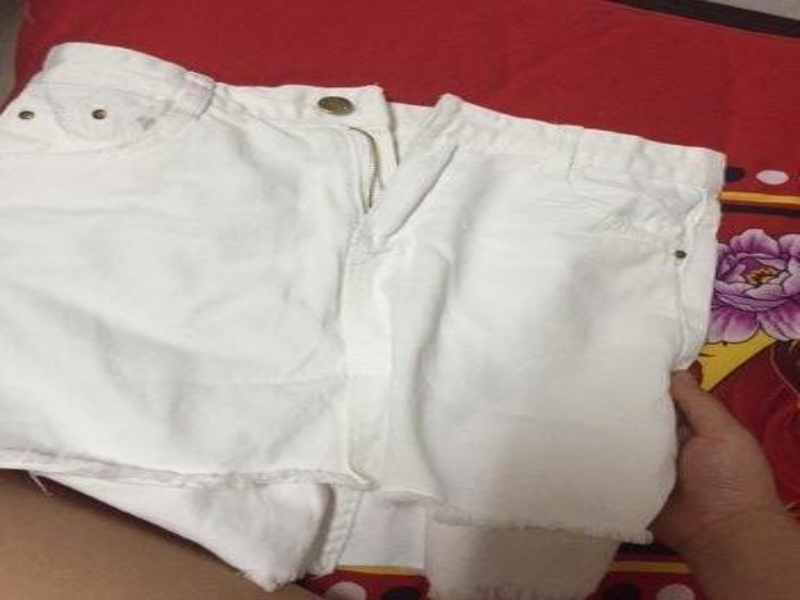skirt: (0, 41, 732, 599)
